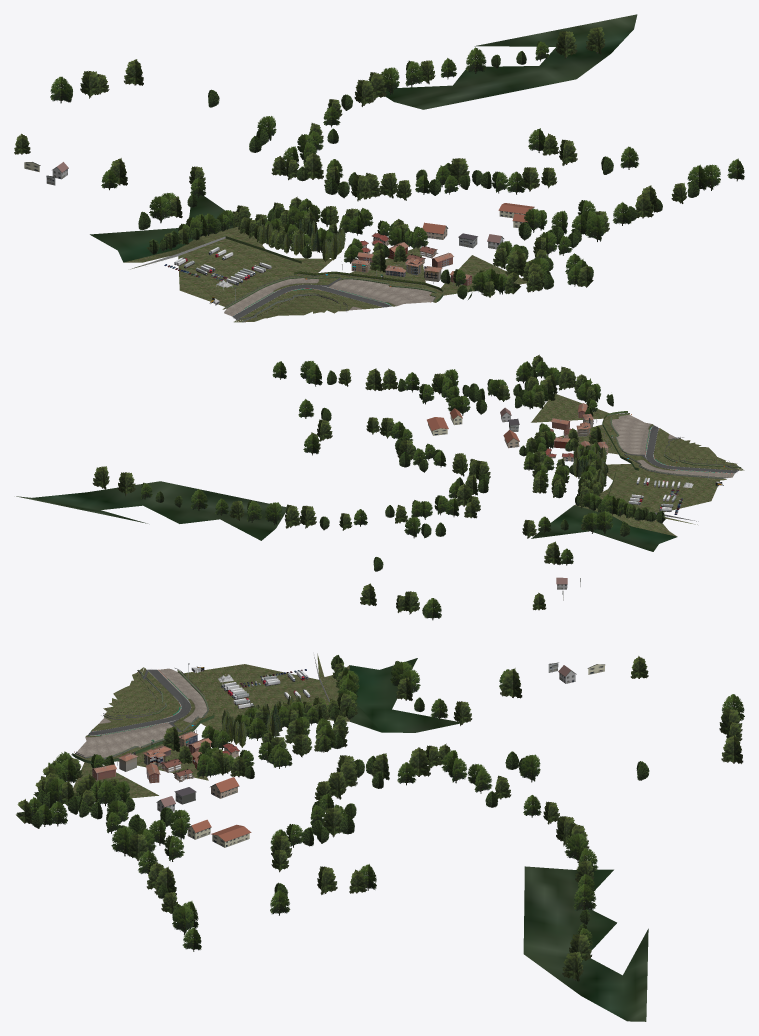
3 renders of one model, top to bottom at view 1: azimuth 30°, elevation 25°; view 2: azimuth 150°, elevation 25°; view 3: azimuth 270°, elevation 25°, orthographic. The views are drawn at different scales.
Parts seen in each view (by area): view 1: tile_t17; view 2: tile_t17; view 3: tile_t17.
Part boxes in pixels (x1,y1,x2,y2): tile_t17: (14,14,744,322); tile_t17: (16,354,744,620); tile_t17: (16,653,744,1021).
Size of the model in its own units: 883 by 64.13 by 776.
37 materials, 37 textured.
